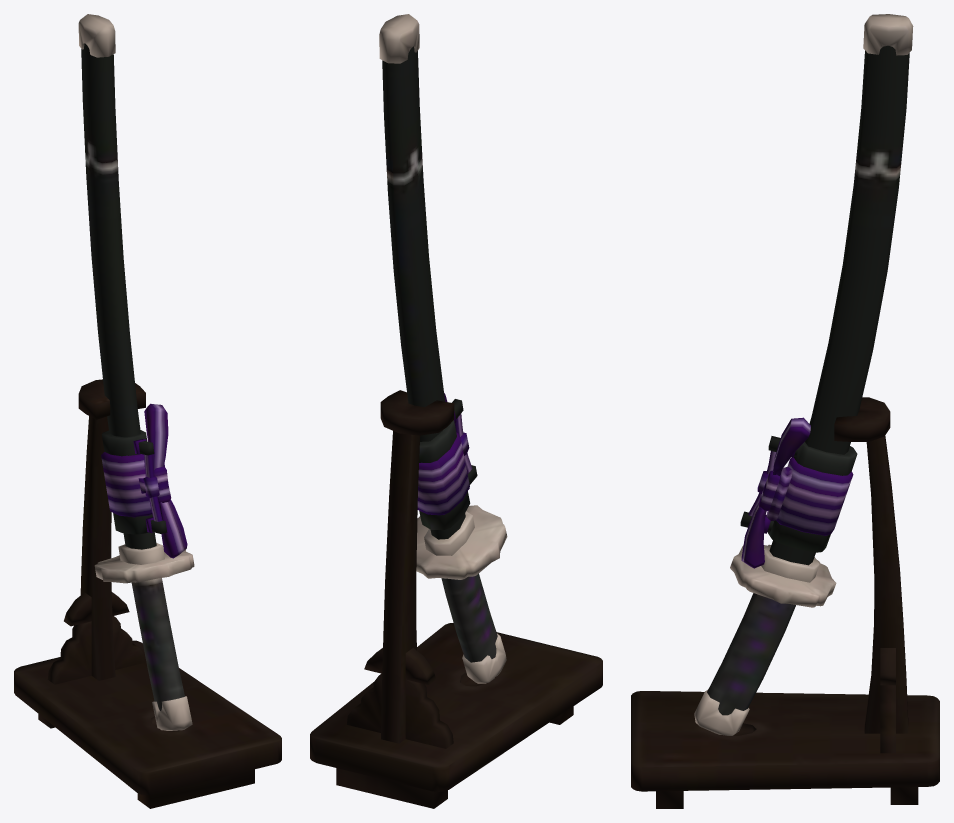
3 views of the same model, side by side, from view 1: azimuth 30°, elevation 25°; view 2: azimuth 150°, elevation 25°; view 3: azimuth 270°, elevation 25° (orthographic). The views are drawn at different scales.
Bounding box in the file's own units: 3.59 × 16.76 × 6.13.
1 material, 1 textured.
